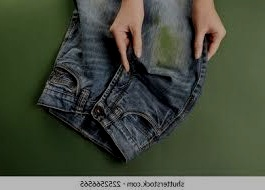earth: (156, 25, 180, 64)
